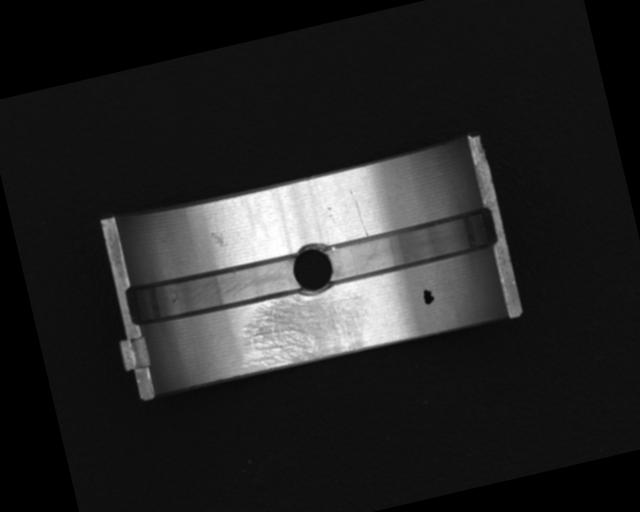blot: (420, 286, 437, 306)
bruise: (207, 228, 226, 249)
gap: (122, 249, 305, 331), (322, 206, 499, 287)
hole: (287, 236, 339, 300)
nick: (352, 196, 368, 238)
scratch: (231, 279, 376, 375)
